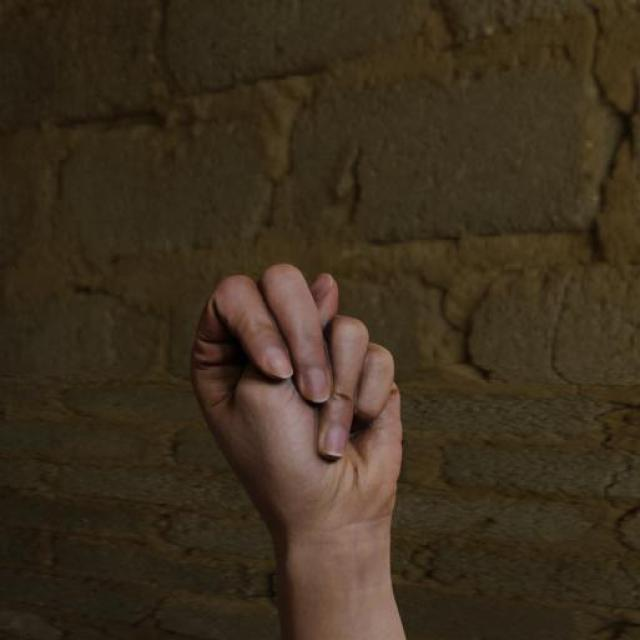N: (191, 263, 407, 517)
